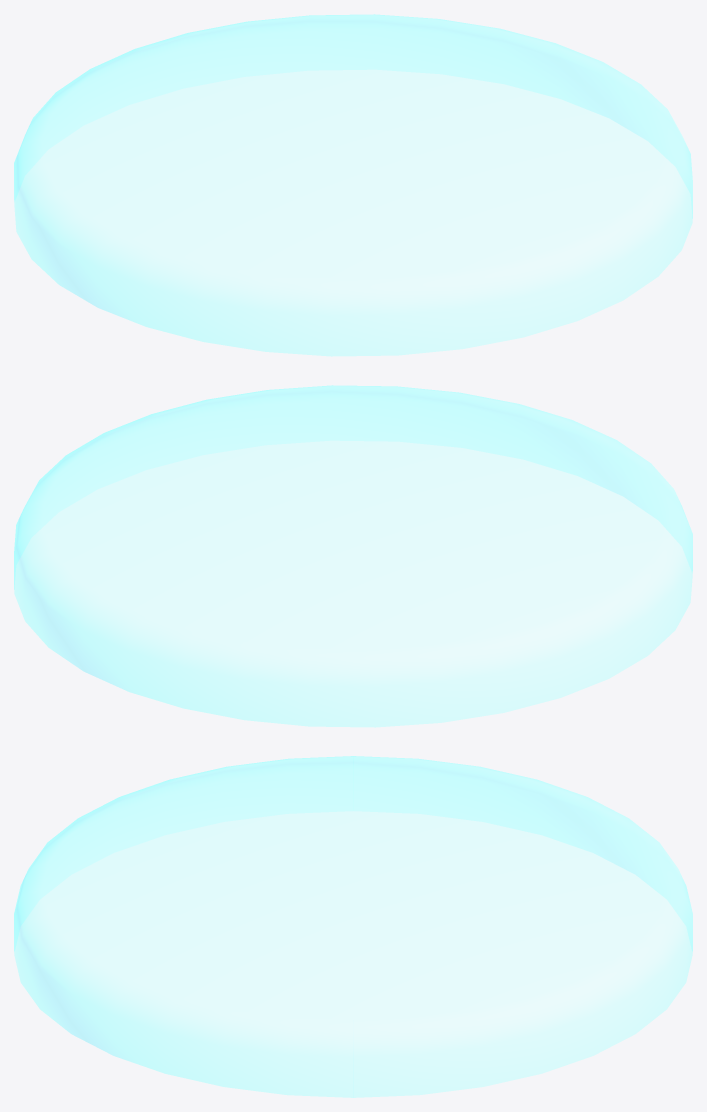
File: SM_Button_Press.fbx
3 renders of one model, top to bottom at view 1: azimuth 30°, elevation 25°; view 2: azimuth 150°, elevation 25°; view 3: azimuth 270°, elevation 25°, orthographic.
Parts seen in each view (by area): view 1: Button_Top; view 2: Button_Top; view 3: Button_Top.
Part boxes in pixels (box(x1,y1,x2,y2)): Button_Top: box(14, 14, 692, 356); Button_Top: box(14, 385, 692, 727); Button_Top: box(14, 756, 692, 1097).
Bounding box in the file's own units: 0.8448 × 0.0906 × 0.8448.
